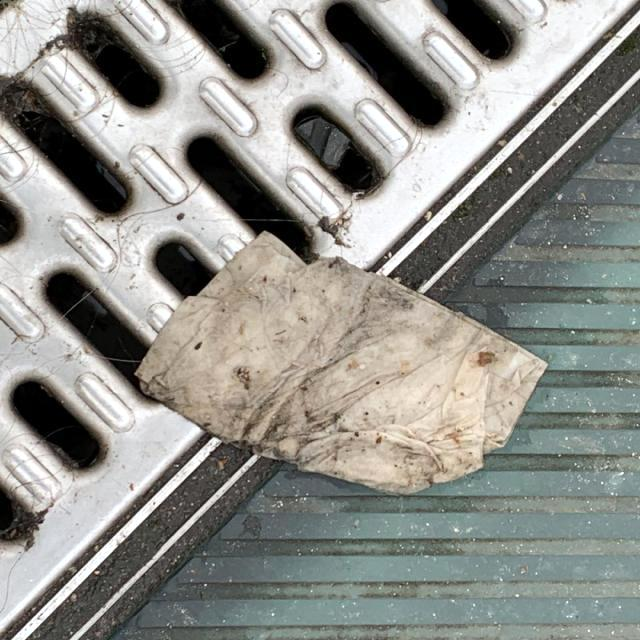Paper: (130, 225, 550, 497)
